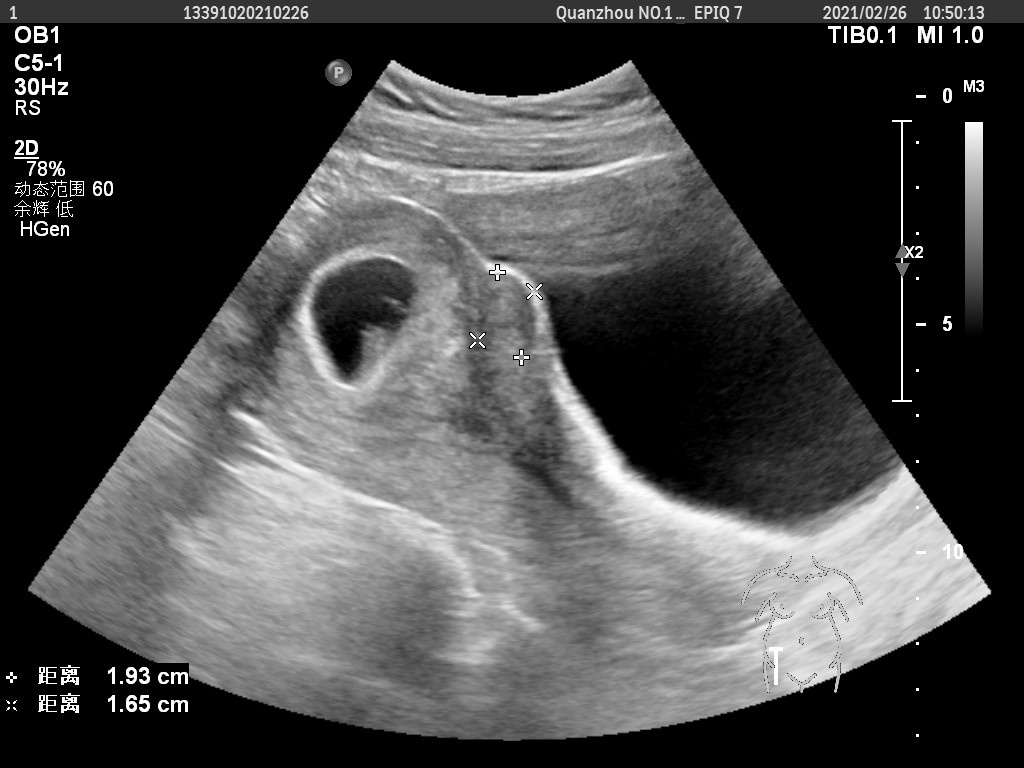肌瘤: (477, 280, 528, 346)
